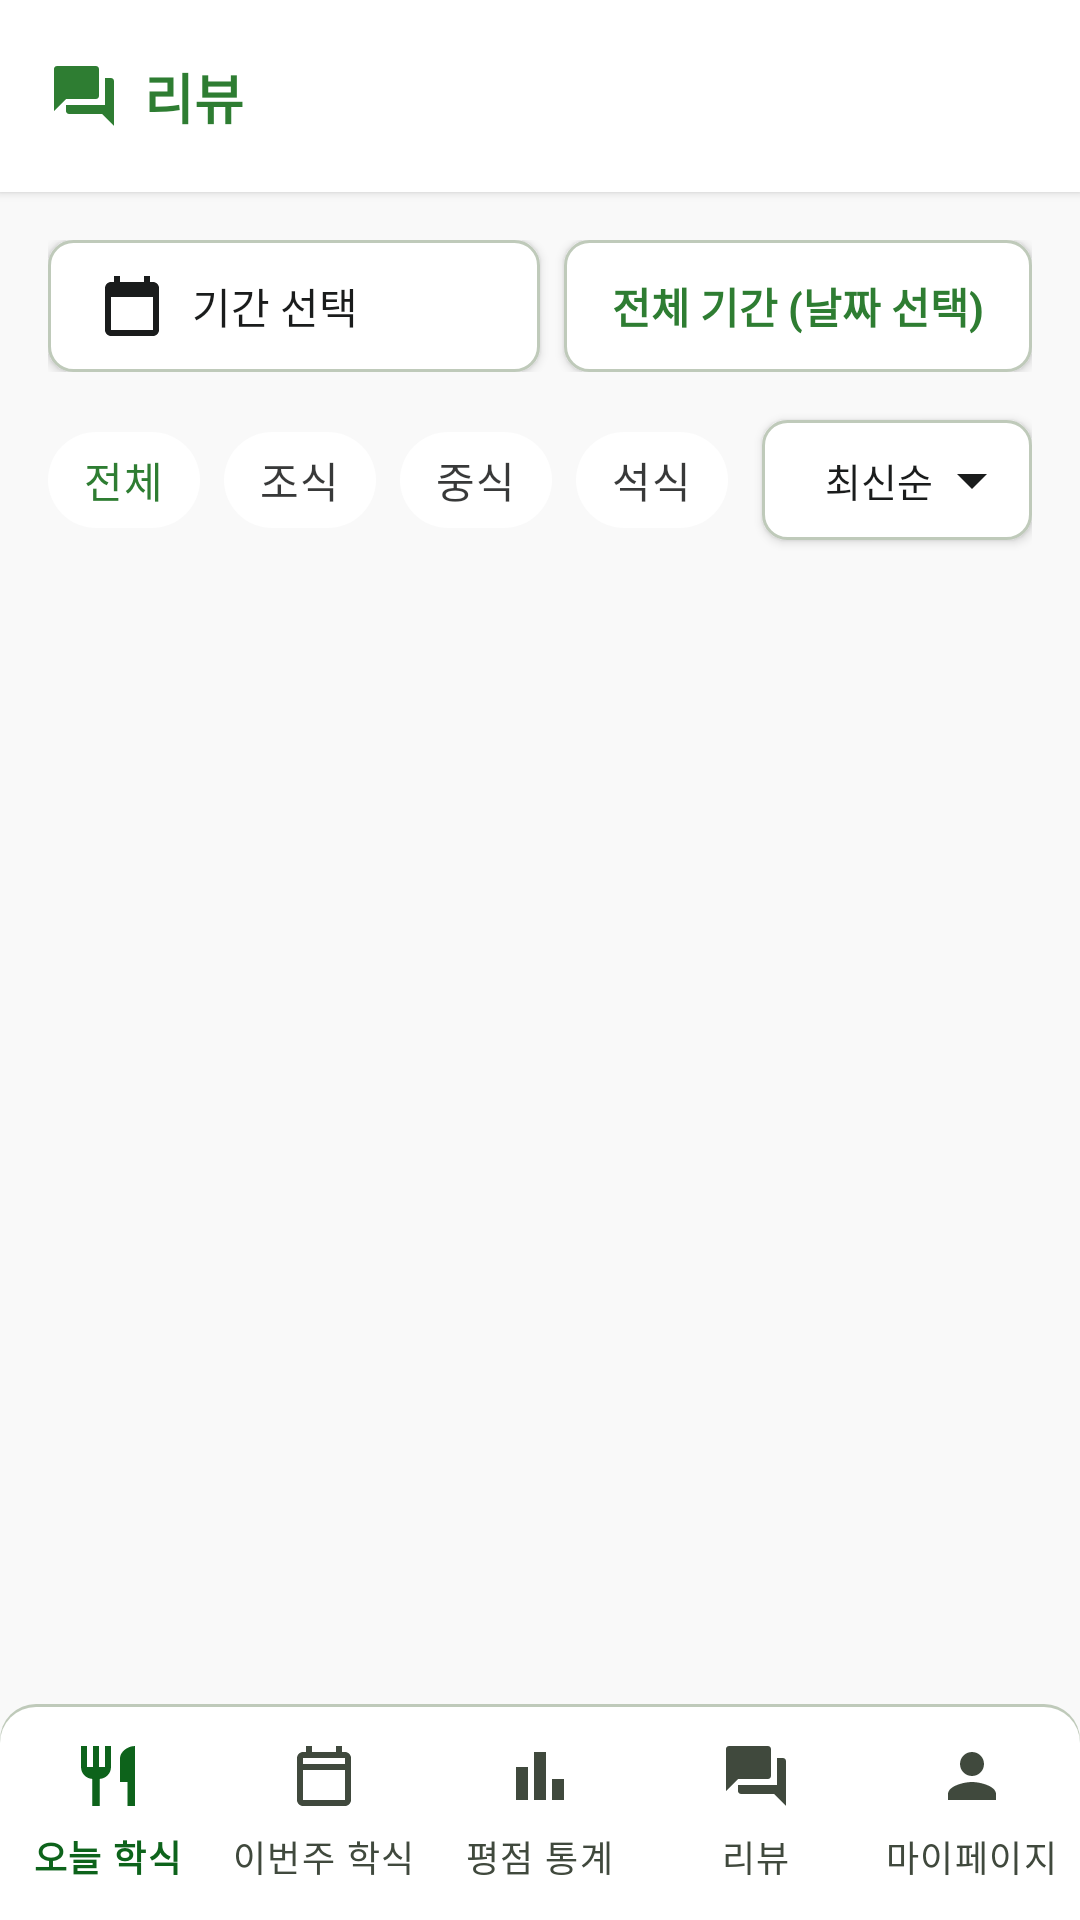

Where icons sit on this 1080 × 1920 app screen, as (x1, y1, x2, y2):
forum: (54, 66, 114, 126)
